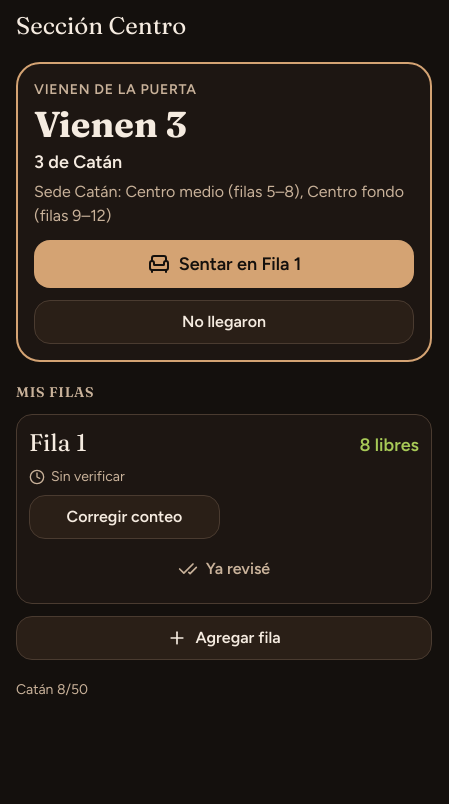
Test: sectores de la sede y aviso de fuera de sector › si sentar vuelve con fueraDeSector muestra un aviso con la sede y los sectores, sin bloquear
Expected: the text "fuera del sector" is not shown
Click the button "Sentar en Fila 1".
click(224, 264)  # box x1=34 y1=240 x2=414 y2=288
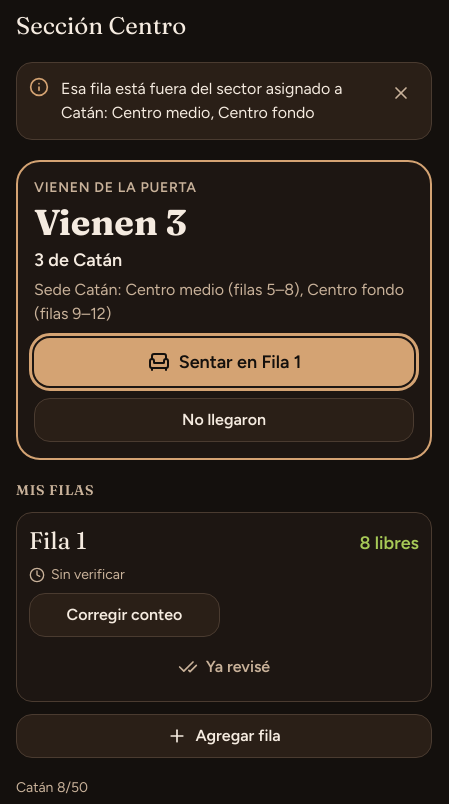
Now the text "Esa fila está fuera del sector asignado a Catán: Centro medio, Centro fondo" is shown, box x1=61 y1=75 x2=367 y2=127
Now the message "Esa fila está fuera del sector asignado a Catán: Centro medio, Centro fondo" is shown, box x1=16 y1=62 x2=432 y2=140
Click the button named "Cerrar aviso".
click(401, 93)  # box x1=379 y1=71 x2=423 y2=115
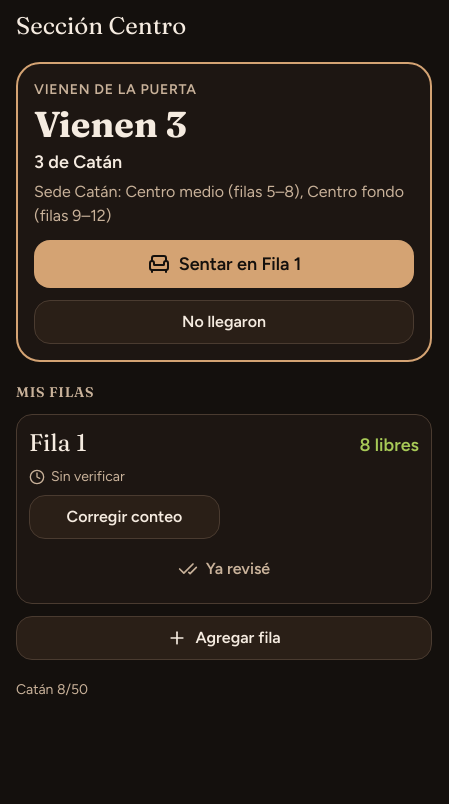
Now the text "fuera del sector" is gone
